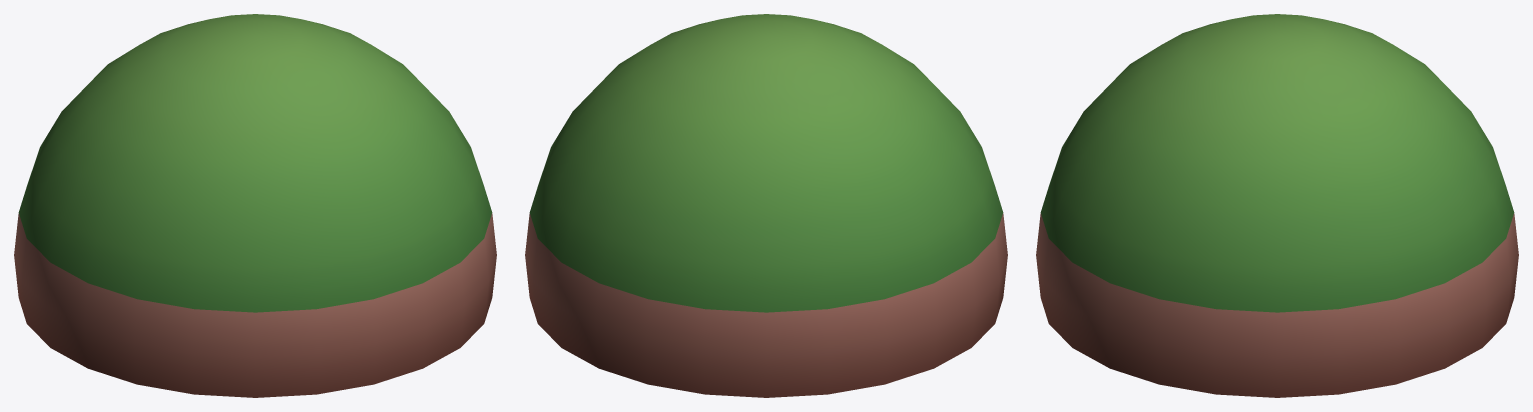
File: Forest_SphereSmall.fbx
3 views of the same model, side by side, from view 1: azimuth 30°, elevation 25°; view 2: azimuth 150°, elevation 25°; view 3: azimuth 270°, elevation 25° (orthographic).
Visible parts, largest first — view 1: Sphere.009; view 2: Sphere.009; view 3: Sphere.009.
Boxes of the visible parts, x1,y1,x2,y2 form: Sphere.009: (14, 14, 496, 397); Sphere.009: (525, 14, 1007, 397); Sphere.009: (1036, 14, 1518, 397).
Bounding box in the file's own units: 112 × 67.1 × 112.
